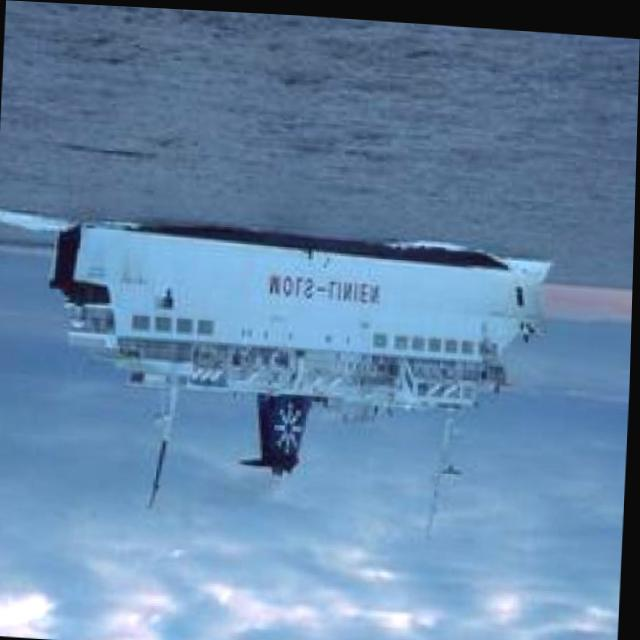ship2: (50, 216, 556, 534)
